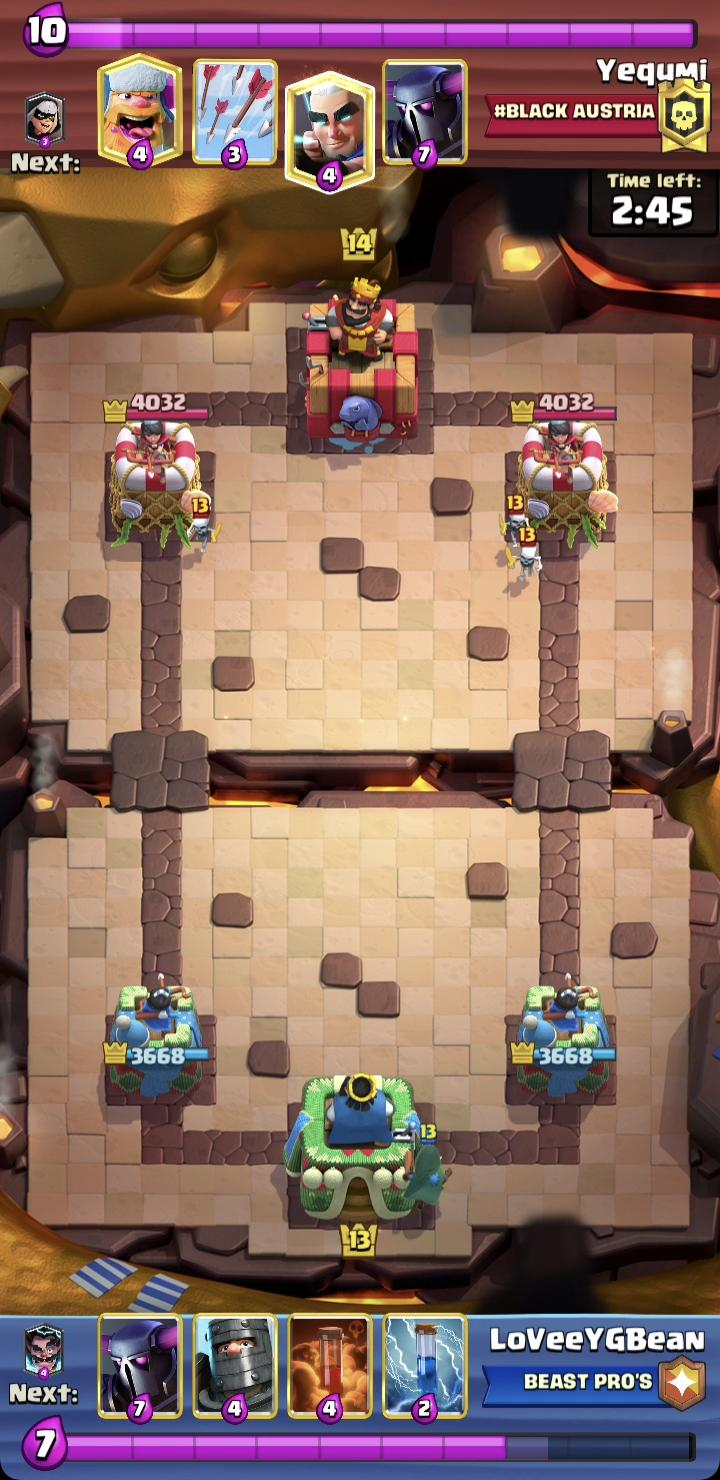enemy_skeleton: (186, 496, 217, 557), (501, 494, 532, 548), (513, 525, 542, 580)
